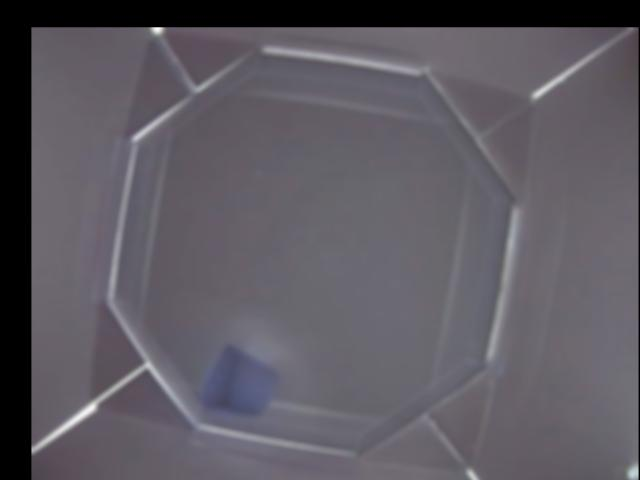Mooli: (203, 341, 280, 421)
